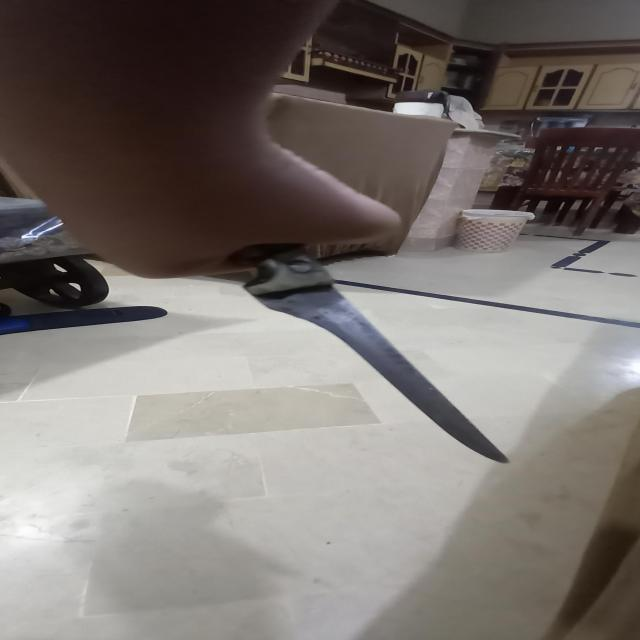Knife: (221, 237, 513, 464)
Person: (0, 0, 399, 278)
